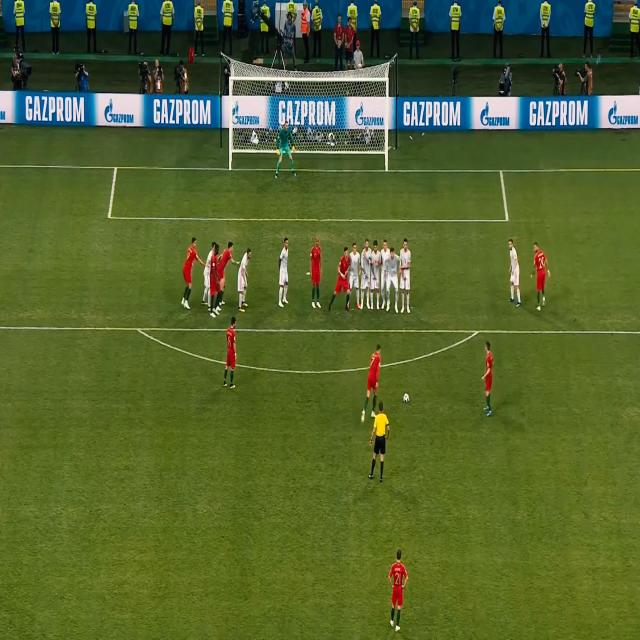ball: (402, 391, 411, 404)
player: (368, 400, 392, 485), (386, 546, 409, 634), (178, 235, 203, 312), (209, 239, 233, 319), (360, 343, 384, 420), (272, 114, 299, 182), (329, 245, 352, 314), (531, 239, 552, 312), (506, 233, 524, 312), (204, 239, 222, 314), (222, 314, 239, 390), (480, 340, 496, 416), (235, 246, 253, 312), (277, 235, 292, 310), (399, 237, 412, 316), (378, 239, 391, 312), (386, 248, 400, 313), (348, 243, 361, 312), (310, 235, 322, 309), (361, 238, 372, 314), (370, 239, 381, 310)
